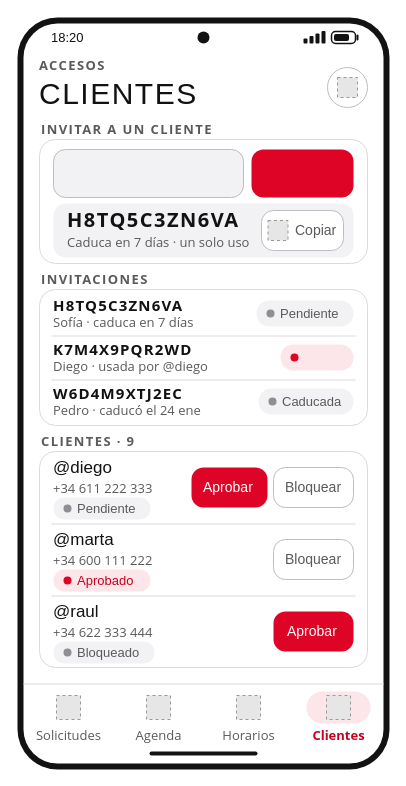
Image size: 406x786. Some labels were removed from this diagram. Grey dashed boxes stand in for pictures. Each missing label, with the centre of its shape:
Generar: point 302,173
Nota: Sofía: point 148,173
Usada: point 316,357
